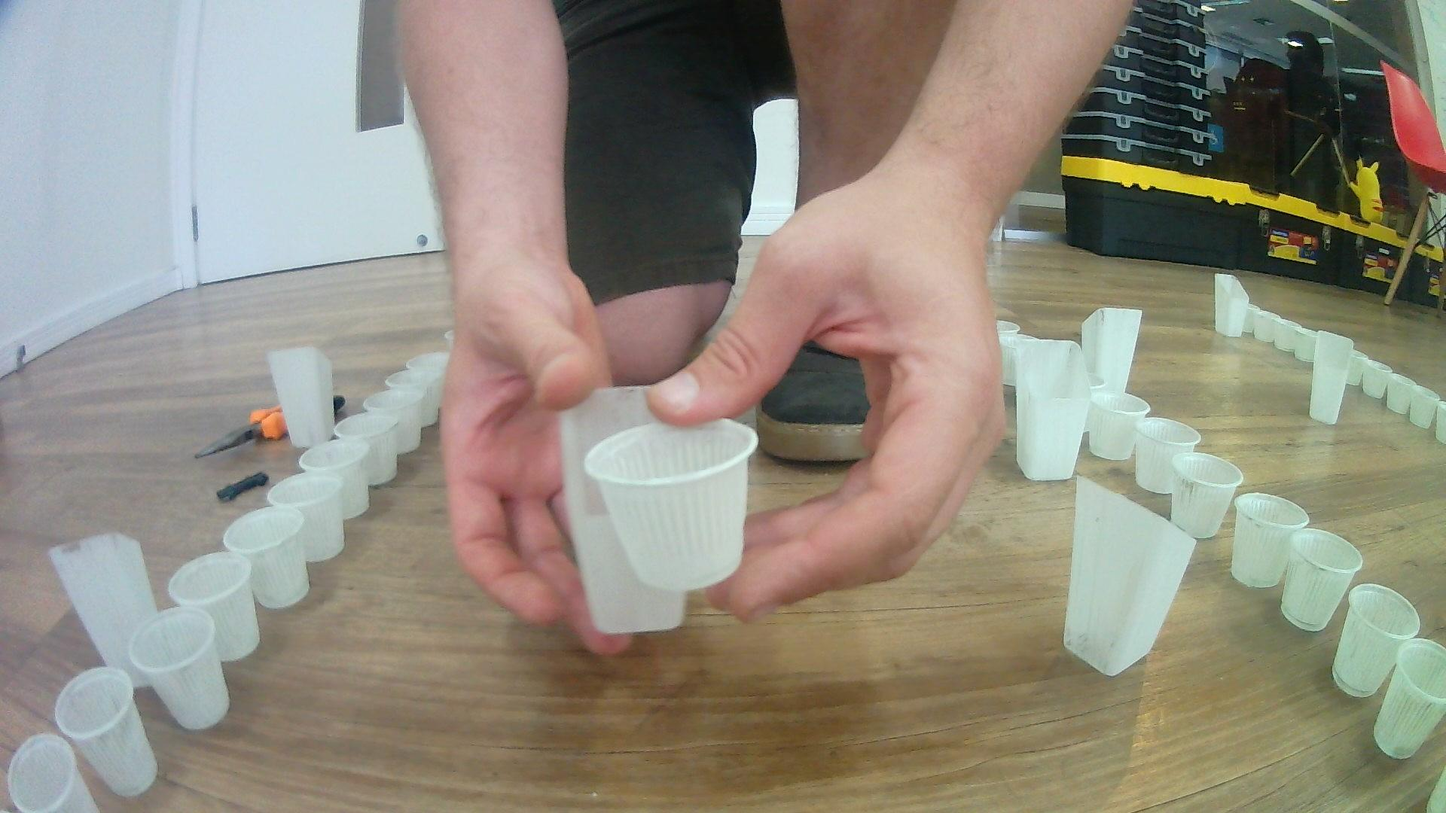erva_daninha: (559, 384, 688, 635), (1062, 471, 1197, 679), (47, 530, 160, 691), (1014, 337, 1092, 482), (266, 345, 335, 449), (1081, 306, 1143, 394), (1308, 330, 1356, 425), (1213, 272, 1250, 338)
planta: (584, 414, 760, 592), (55, 666, 159, 800), (127, 606, 232, 732), (165, 551, 261, 664), (1331, 583, 1423, 699), (222, 505, 311, 609), (1372, 638, 1446, 760), (1278, 528, 1364, 632), (1231, 491, 1310, 589), (5, 733, 100, 813), (267, 471, 346, 563), (1168, 452, 1246, 539), (297, 438, 368, 521), (1133, 416, 1203, 495), (334, 413, 399, 486), (1088, 391, 1152, 461), (362, 390, 422, 456), (385, 369, 438, 429), (406, 352, 450, 407), (996, 332, 1033, 388), (1406, 385, 1440, 430), (1258, 312, 1293, 352), (1273, 321, 1310, 358), (1382, 372, 1414, 414), (1361, 360, 1393, 400), (1082, 373, 1105, 428), (1291, 327, 1325, 363), (1243, 303, 1274, 342), (1348, 351, 1369, 388), (1435, 401, 1446, 446), (995, 320, 1022, 337)
